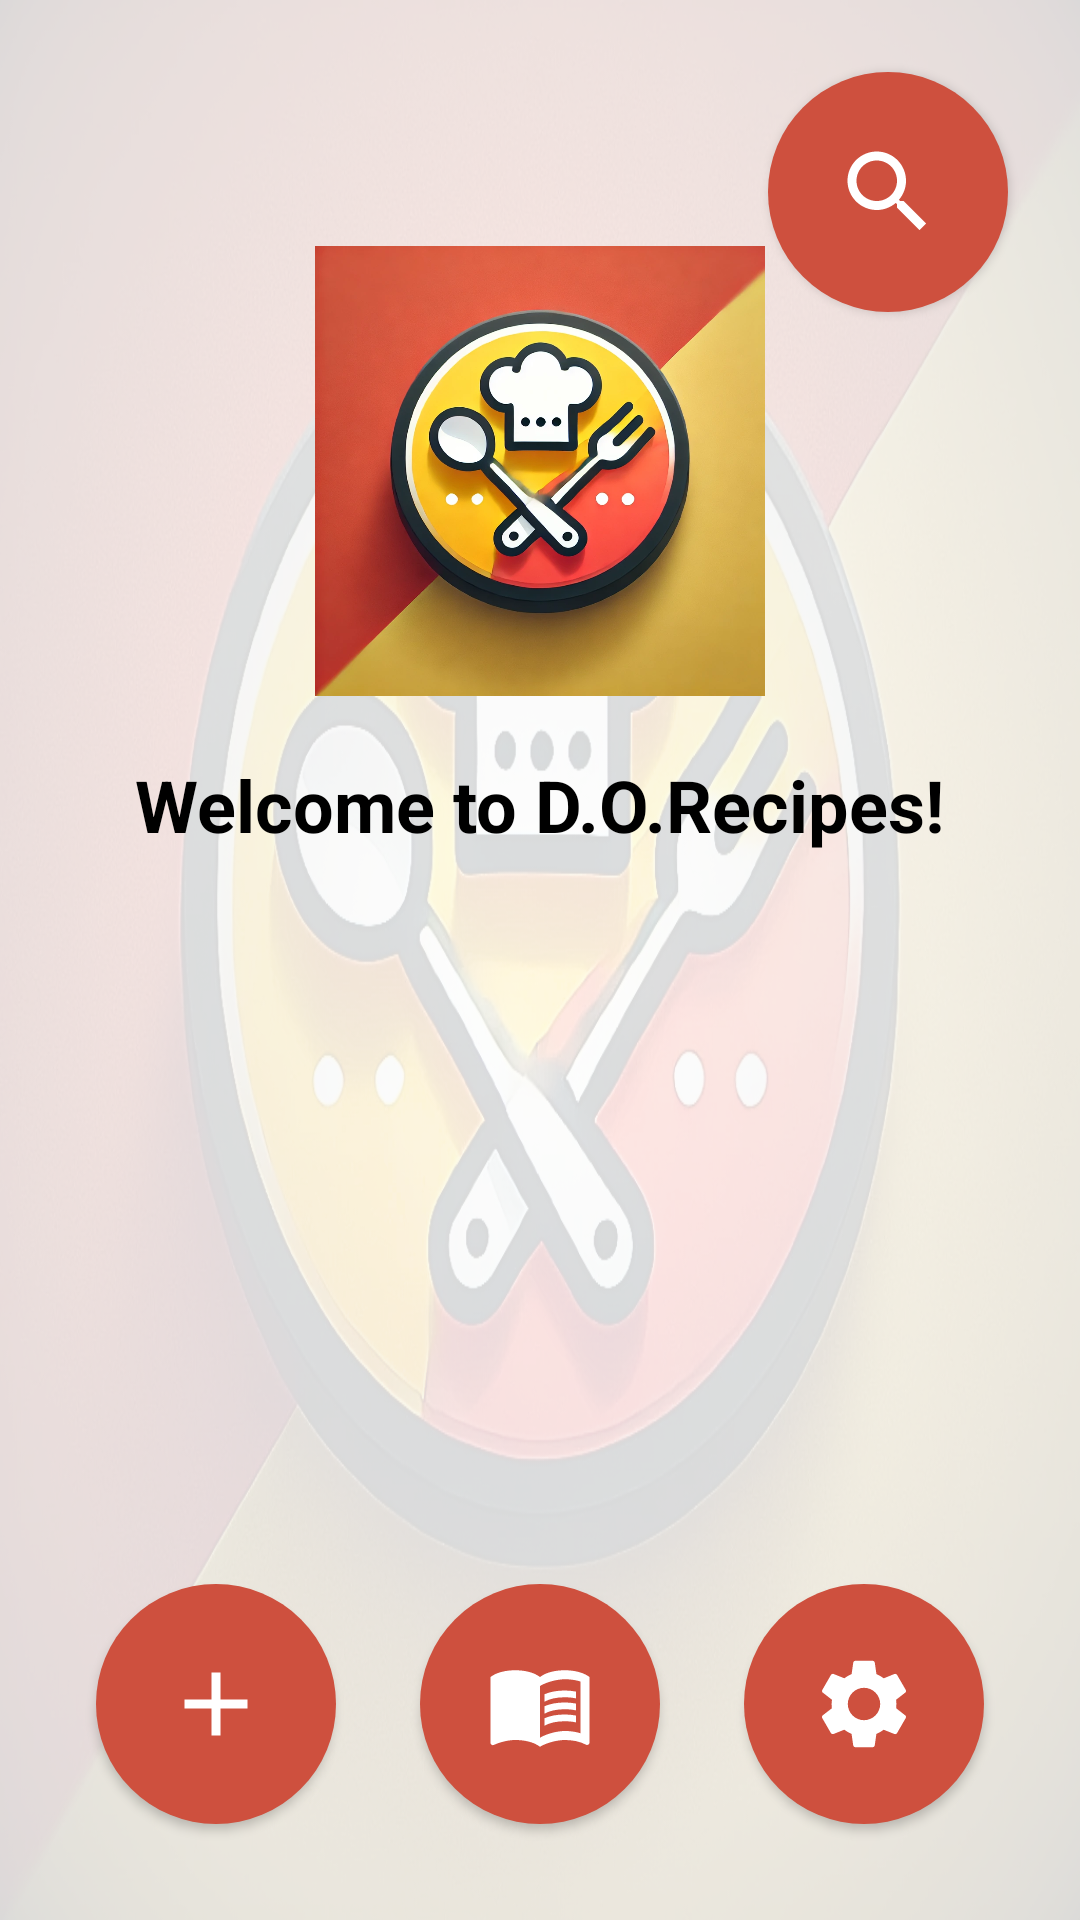

Icon click points for this 1080x1920 phone screenshot, format (x,y):
Add Recipe: (216,1704)
Search: (888,192)
Settings: (864,1704)
View All: (540,1704)
